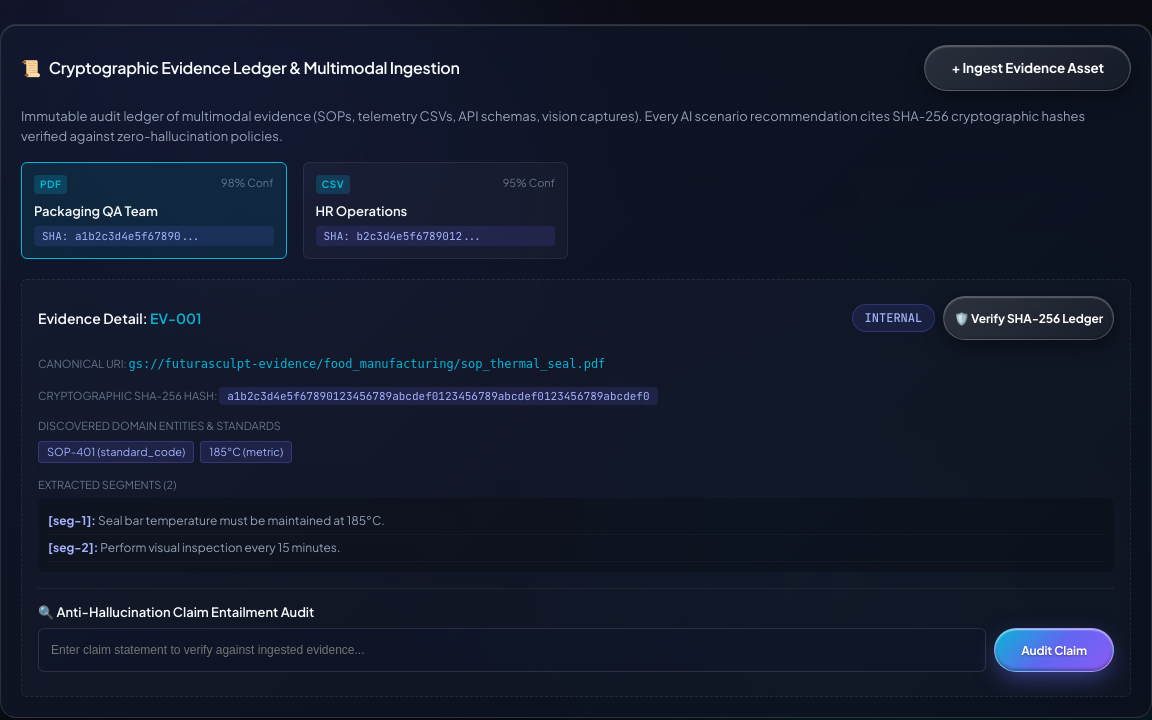
EvidenceDrawer Component › renders evidence ledger list, entity badges, and selects items to display details
The width and height of the screenshot is (1152, 720).
Expected: the text "Packaging QA Team" is shown, [34,203,158,219]
Expected: the text "[seg-1]: Seal bar temperature must be maintained at 185°C." is shown, [48,508,1104,535]
Note: Click on second evidence item
Click the text "HR Operations". click: (361, 211)
box: [316,203,407,219]
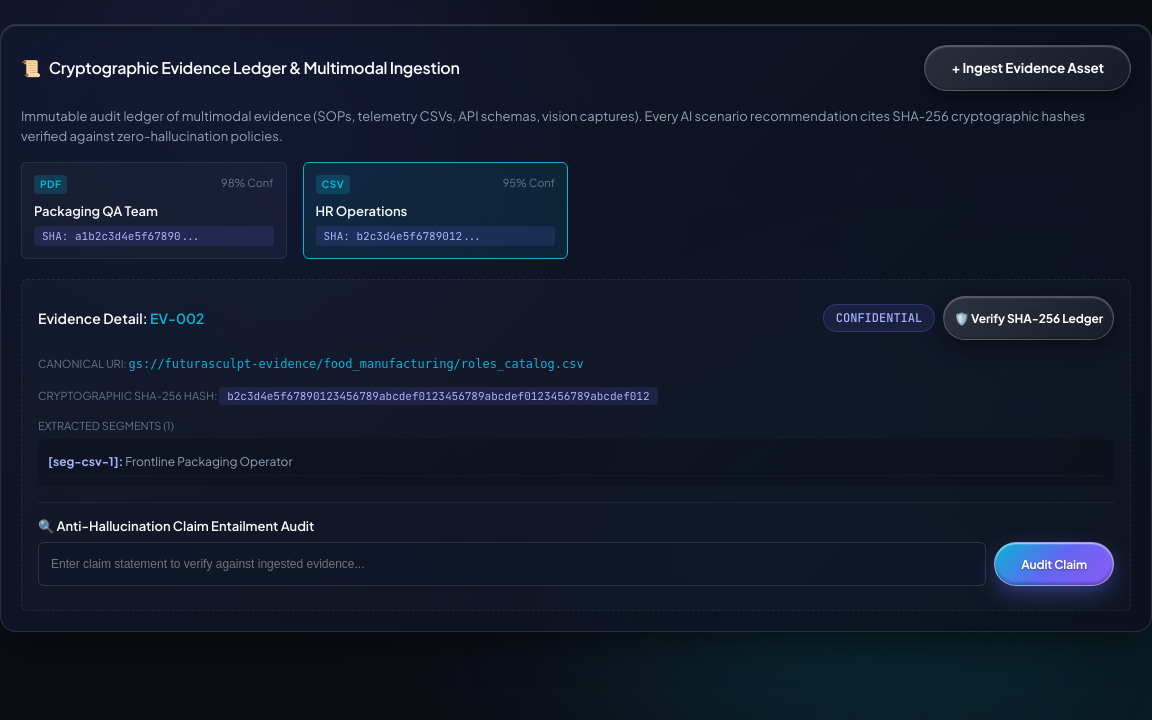
Expected: the heading "Evidence Detail: EV-002" is shown, [38,308,204,329]
Expected: the text "gs://futurasculpt-evidence/food_manufacturing/roles_catalog.csv" is shown, [128,357,584,371]
